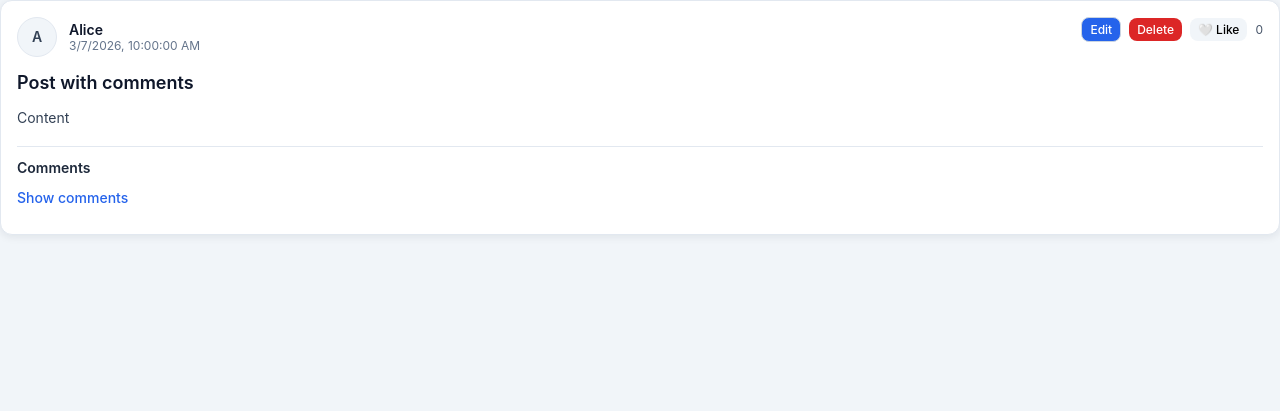
Test: PostCard › Comments › loads comments when opening comments section
This screenshot has width=1280, height=411.
Click the button with test id "comments-open-post-comments-1" at point(73, 197), box 17,188 -> 128,206
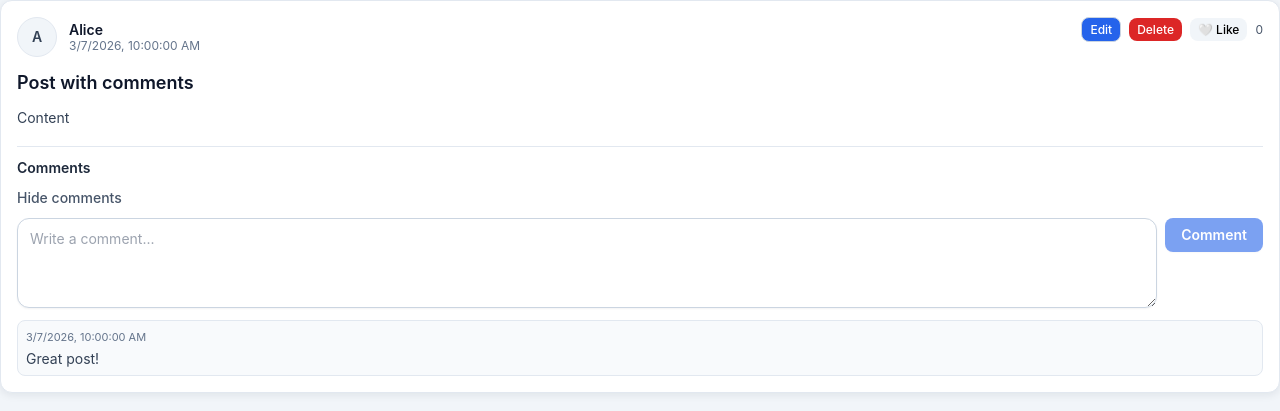
Check: the list with test id "comments-list-post-comments-1" shows "Great post!", box 26,350 -> 99,366
